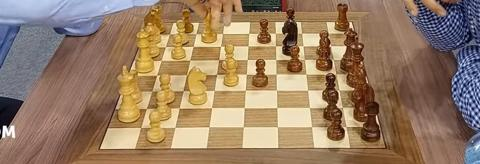xcorner: (298, 30, 304, 36), (217, 43, 223, 49), (162, 43, 168, 49), (273, 71, 279, 77), (243, 71, 249, 77), (209, 105, 215, 111), (325, 30, 330, 36), (272, 30, 277, 36), (245, 31, 251, 36), (192, 31, 198, 36), (327, 43, 333, 48), (272, 43, 278, 48), (190, 43, 195, 49), (330, 56, 335, 62), (301, 57, 307, 62), (158, 57, 164, 62), (303, 71, 308, 77), (336, 87, 341, 93), (305, 87, 310, 93), (274, 87, 279, 93), (180, 88, 186, 93), (149, 88, 155, 93), (274, 105, 280, 110), (177, 105, 182, 111), (343, 124, 349, 129), (309, 124, 315, 129), (275, 124, 280, 130), (241, 124, 246, 130), (138, 125, 144, 130), (219, 31, 224, 36), (166, 31, 171, 36), (300, 43, 305, 48), (245, 43, 250, 48), (273, 57, 278, 62), (244, 57, 249, 62), (216, 57, 221, 62), (187, 57, 192, 62), (333, 71, 338, 76), (214, 72, 219, 77), (184, 72, 189, 77), (154, 72, 159, 77), (243, 88, 248, 93), (212, 88, 217, 93), (340, 105, 345, 110), (307, 105, 312, 110), (242, 105, 247, 110), (144, 106, 149, 111), (207, 125, 212, 130), (173, 125, 178, 130)
